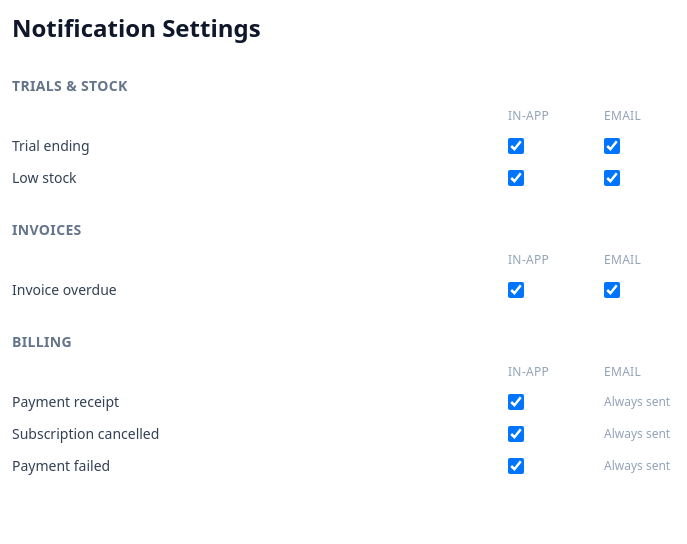
NotificationSettingsPage › toggling a checkbox saves via PATCH with just that field and reflects the response
Click the checkbox named "Trial ending in-app".
click(516, 146)  # box [508,138,524,154]
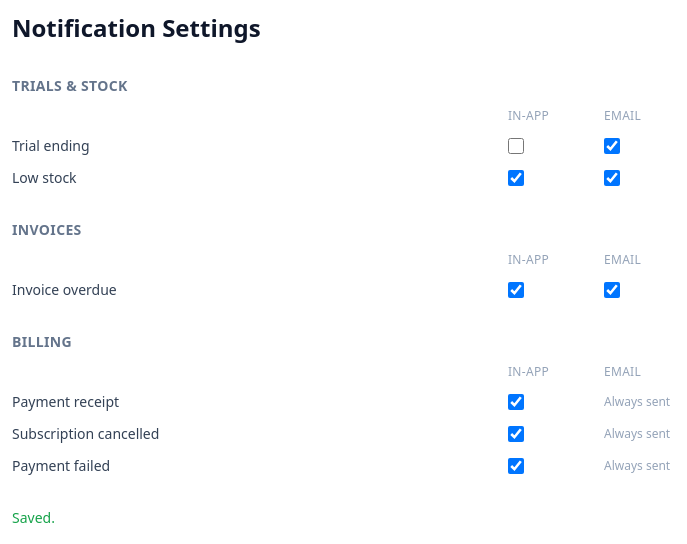
expect the checkbox named "Trial ending in-app" is not checked: met, box [508,138,524,154]
expect the text "Saved." is shown: met, box [12,508,55,527]
